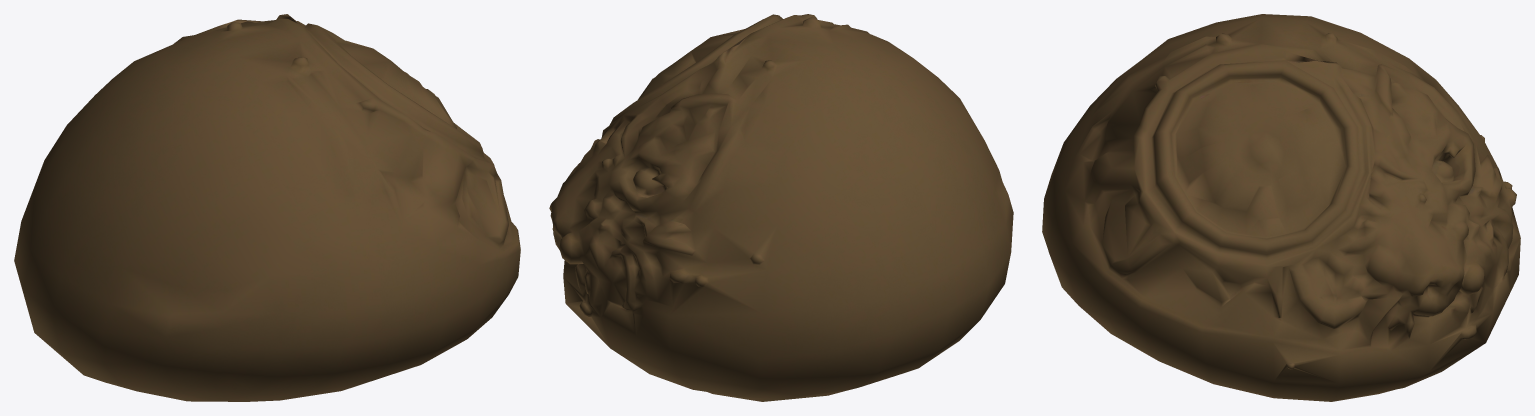
File: wolfeye_stone.glb
3 views of the same model, side by side, from view 1: azimuth 30°, elevation 25°; view 2: azimuth 150°, elevation 25°; view 3: azimuth 270°, elevation 25° (orthographic). The views are drawn at different scales.
Parts seen in each view (by area): view 1: base_model_path; view 2: base_model_path; view 3: base_model_path.
Boxes of the visible parts, box(x1,y1,x2,y2) form: base_model_path: box(14, 14, 520, 401); base_model_path: box(549, 14, 1013, 401); base_model_path: box(1042, 14, 1520, 401).
Size of the model in its own units: 0.9993 by 0.7724 by 0.9954.
1 material, 1 textured.
